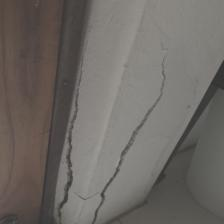High: (53, 31, 165, 224)
